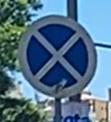paragem e estacionamento proibido: (13, 11, 102, 98)
